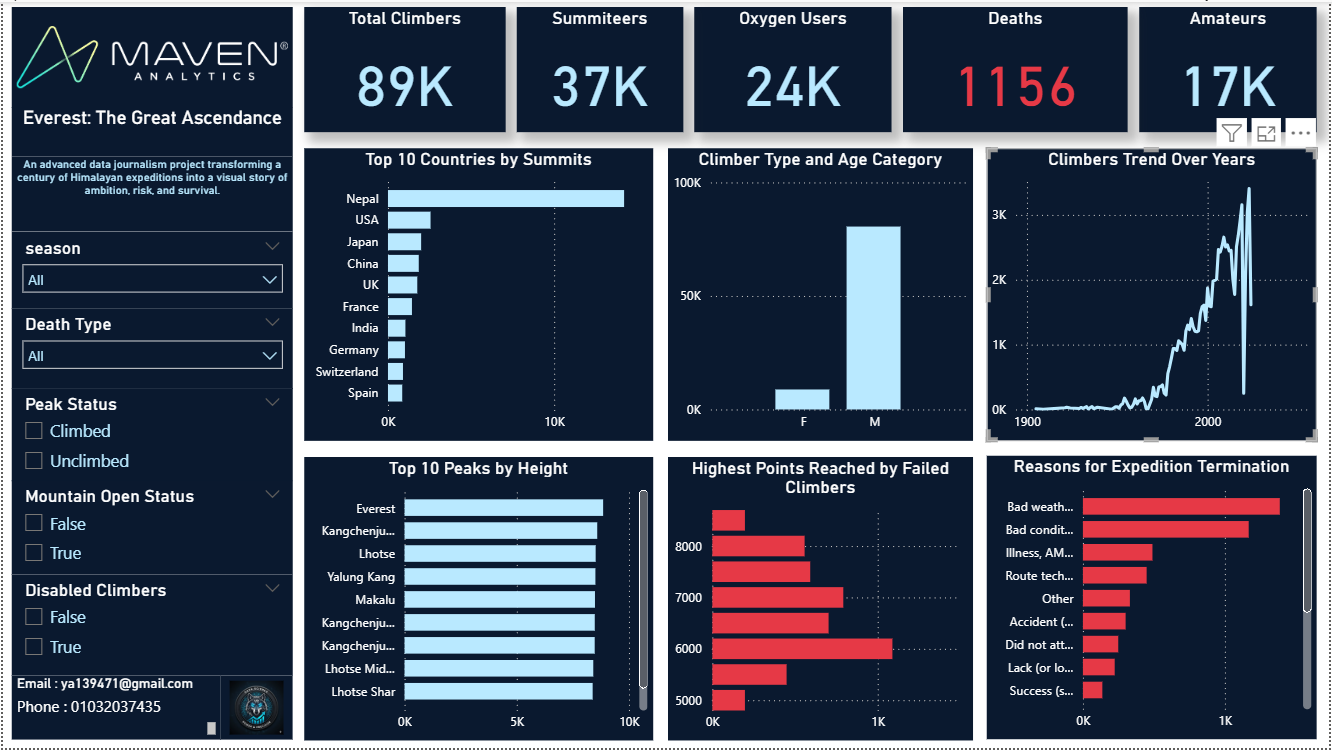

The page's visual inventory and layout, read from the dashboard file:
{"tool":"powerbi","page":{"name":"Page 1","canvas":[1280,720],"ordinal":0},"visuals":[{"type":"card","title":"Total Climbers","fields":{"Values":["members.Total Climbers"]},"box":[290.8,4.8,194.2,120.6],"z":0},{"type":"card","title":"Oxygen Users","fields":{"Values":["members.Oxygen Usage %"]},"box":[667.2,4.8,190.6,120.6],"z":1000},{"type":"card","title":"Summiteers","fields":{"Values":["members.Total Summits"]},"box":[495.8,4.8,160.5,120.6],"z":2000},{"type":"card","title":"Amateurs","fields":{"Values":["members.Total sherpa"]},"box":[1096.7,4.8,171.3,120.6],"z":3000},{"type":"card","title":"Deaths","fields":{"Values":["members.Total Deaths"]},"box":[868.6,4.8,217.2,120.6],"z":4000},{"type":"clusteredBarChart","title":"Top 10 Countries by Summits","fields":{"Category":["members.citizen Hierarchy.citizen","members.citizen Hierarchy.name"],"Y":["members.Total Summits"]},"box":[290.8,141.2,336.6,282.3],"z":5000},{"type":"clusteredColumnChart","title":"Climber Type and Age Category","fields":{"Category":["members.sex Hierarchy.sex","members.sex Hierarchy.Age Group"],"Y":["members.Total Climbers"]},"box":[641.2,141.2,294.4,282.3],"z":6000},{"type":"slicer","fields":{"Values":["exped.season"]},"box":[8.4,222,271.4,73.6],"z":7000},{"type":"clusteredBarChart","title":"Top 10 Peaks by Height","fields":{"Category":["peaks.pkname"],"Y":["Max(peaks.heightm)"]},"box":[290.8,439.1,336.6,273.9],"z":8000},{"type":"slicer","fields":{"Values":["peaks.pstatus"]},"box":[8.4,372.8,271.4,89.3],"z":9000},{"type":"clusteredBarChart","title":"Highest Points Reached by Failed Climbers","fields":{"Y":["exped.Failed Expeditions"],"Category":["exped.highpoint (bins)"]},"box":[641.2,439.1,294.4,273.9],"z":10000},{"type":"clusteredBarChart","title":"Reasons for Expedition Termination","fields":{"Category":["exped.termreason"],"Y":["exped.Failed Expeditions"]},"box":[949.5,437.9,318.5,273.9],"z":11000},{"type":"lineChart","title":"Climbers Trend Over Years","fields":{"Category":["Dim_Calendar.Year"],"Y":["members.Total Climbers"]},"box":[949.5,140.6,318.5,282.3],"z":12000},{"type":"image","box":[8.4,4.8,271.4,96.5],"z":13000},{"type":"textbox","title":"Everest: The Great Ascendance","box":[8.4,101.3,271.4,48.3],"z":14000},{"type":"textbox","title":"An advanced data journalism project transforming a century of Himalayan expeditions into a visual story of ambition, risk, and survival.","box":[8.4,149.6,271.4,72.4],"z":15000},{"type":"image","box":[209.9,650.3,70,61.5],"z":16000},{"type":"textbox","title":"Email : ya139471@gmail.com","box":[8.4,650.3,201.5,61.5],"z":17000},{"type":"slicer","fields":{"Values":["peaks.open"]},"box":[8.4,462.1,271.4,90.5],"z":18000},{"type":"slicer","fields":{"Values":["members.disabled"]},"box":[8.4,552.5,271.4,97.7],"z":19000},{"type":"slicer","fields":{"Values":["members.deathtype"]},"box":[8.4,295.6,271.4,77.2],"z":20000}]}

Visuals, with their boxes in screenshot pixels (x1, y1, x2, y2), scaled from the page's 1280x720 canvas onto the 1332x751 screenshot:
"Total Climbers" card: BBox(303, 5, 505, 131)
"Oxygen Users" card: BBox(694, 5, 893, 131)
"Summiteers" card: BBox(516, 5, 683, 131)
"Amateurs" card: BBox(1141, 5, 1320, 131)
"Deaths" card: BBox(904, 5, 1130, 131)
"Top 10 Countries by Summits" clusteredBarChart: BBox(303, 147, 653, 442)
"Climber Type and Age Category" clusteredColumnChart: BBox(667, 147, 974, 442)
slicer - exped.season: BBox(9, 232, 291, 308)
"Top 10 Peaks by Height" clusteredBarChart: BBox(303, 458, 653, 744)
slicer - peaks.pstatus: BBox(9, 389, 291, 482)
"Highest Points Reached by Failed Climbers" clusteredBarChart: BBox(667, 458, 974, 744)
"Reasons for Expedition Termination" clusteredBarChart: BBox(988, 457, 1320, 742)
"Climbers Trend Over Years" lineChart: BBox(988, 147, 1320, 441)
image: BBox(9, 5, 291, 106)
"Everest: The Great Ascendance" textbox: BBox(9, 106, 291, 156)
"An advanced data journalism project transforming a century of Himalayan expeditions into a visual story of ambition, risk, and survival." textbox: BBox(9, 156, 291, 232)
image: BBox(218, 678, 291, 742)
"Email : ya139471@gmail.com" textbox: BBox(9, 678, 218, 742)
slicer - peaks.open: BBox(9, 482, 291, 576)
slicer - members.disabled: BBox(9, 576, 291, 678)
slicer - members.deathtype: BBox(9, 308, 291, 389)
